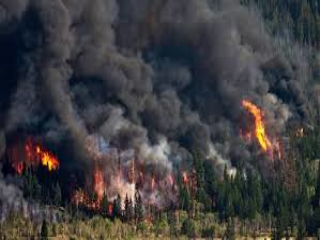fire: (86, 171, 144, 212), (242, 97, 274, 155), (28, 145, 60, 172)
smoke: (13, 4, 225, 171)
